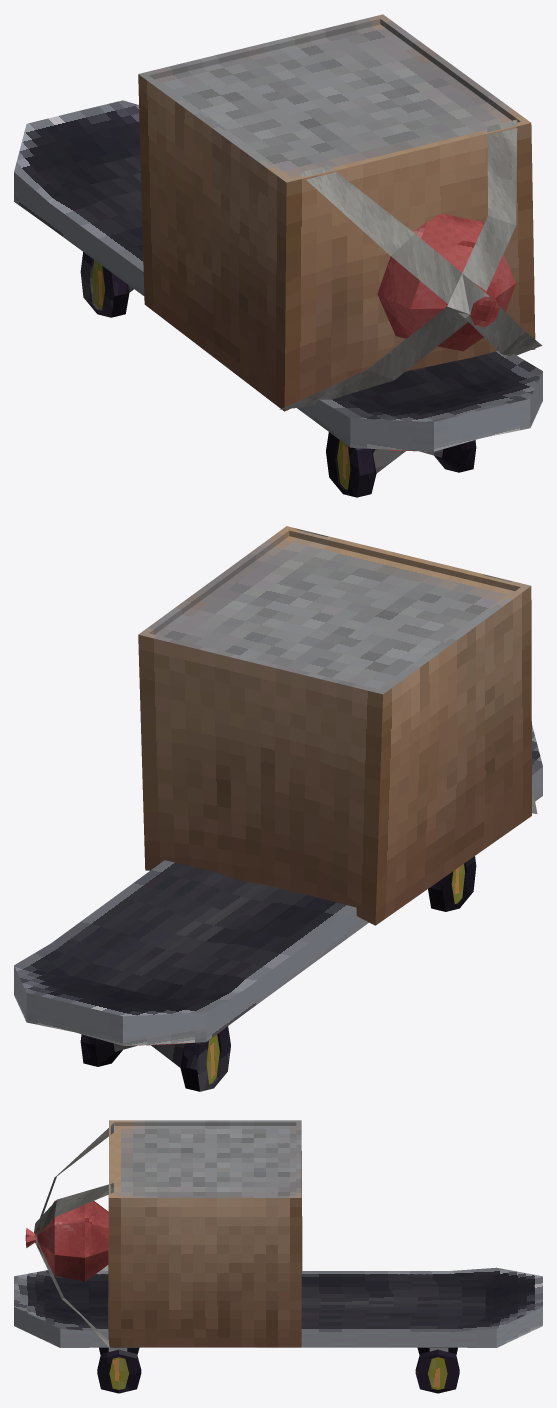
Rendered from SkateModel.fbx.
3 views of the same model, one above another, from view 1: azimuth 30°, elevation 25°; view 2: azimuth 150°, elevation 25°; view 3: azimuth 270°, elevation 25° (orthographic). The views are drawn at different scales.
Parts seen in each view (by area): view 1: Cube.001, Cube, Plane.001, Sphere, Plane; view 2: Cube.001, Cube; view 3: Cube.001, Cube, Sphere, Plane.001, Plane.
Part boxes in pixels (x1=…): Cube.001: x1=138, y1=14, x2=535, y2=411; Cube: x1=14, y1=100, x2=542, y2=497; Plane.001: x1=279, y1=119, x2=517, y2=409; Sphere: x1=377, y1=213, x2=515, y2=351; Plane: x1=298, y1=165, x2=542, y2=355; Cube.001: x1=138, y1=526, x2=531, y2=925; Cube: x1=14, y1=725, x2=542, y2=1091; Cube.001: x1=108, y1=1120, x2=302, y2=1347; Cube: x1=14, y1=1267, x2=542, y2=1393; Sphere: x1=25, y1=1200, x2=108, y2=1281; Plane.001: x1=34, y1=1183, x2=113, y2=1273; Plane: x1=34, y1=1123, x2=113, y2=1347.
Bounding box in the file's own units: 175 × 213 × 469.
Materials: 4 (4 with a texture image).
